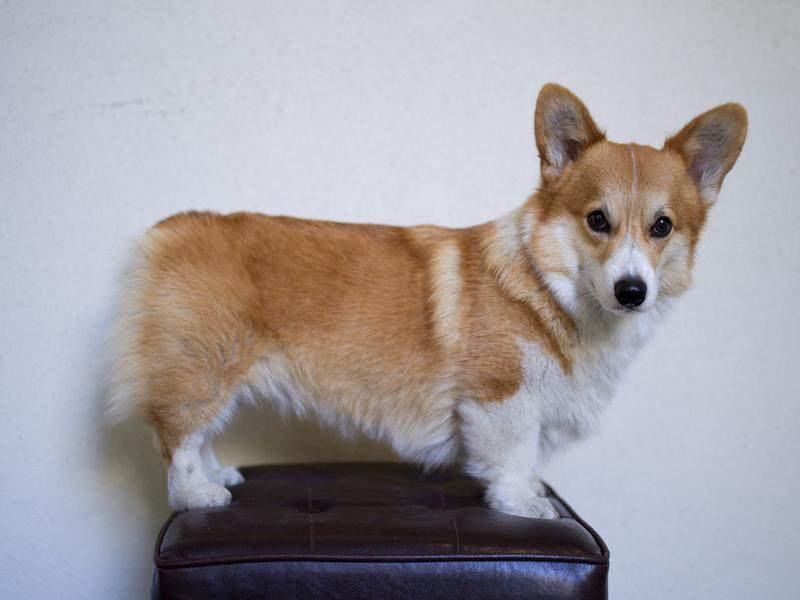corgi: (530, 83, 752, 316)
